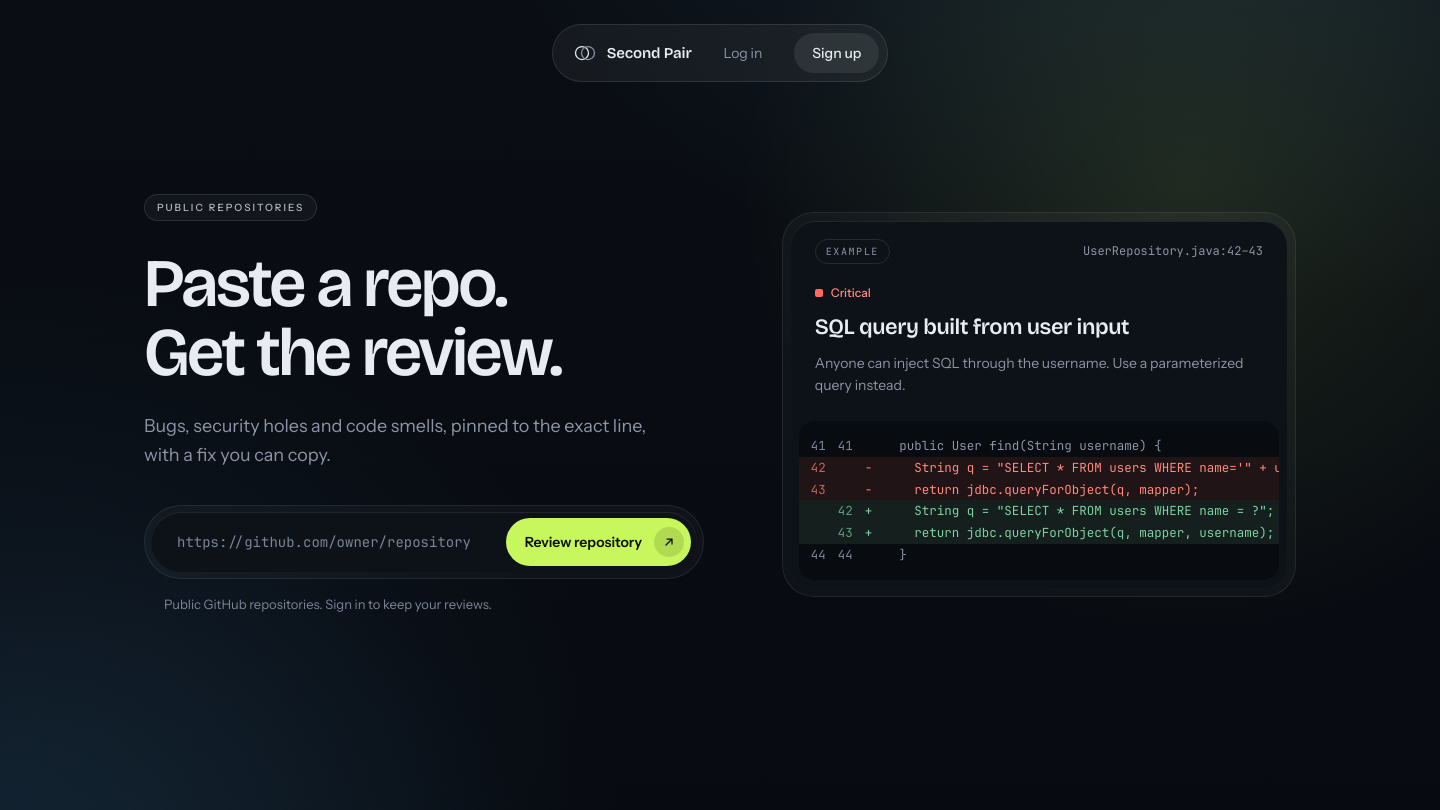
Test case: LandingPage › sends a visitor to log in and brings the URL back afterwards
Step 1. Type "https://github.com/octo/demo" into the field named "GitHub repository URL" → [327, 542], box [157,518,498,566]
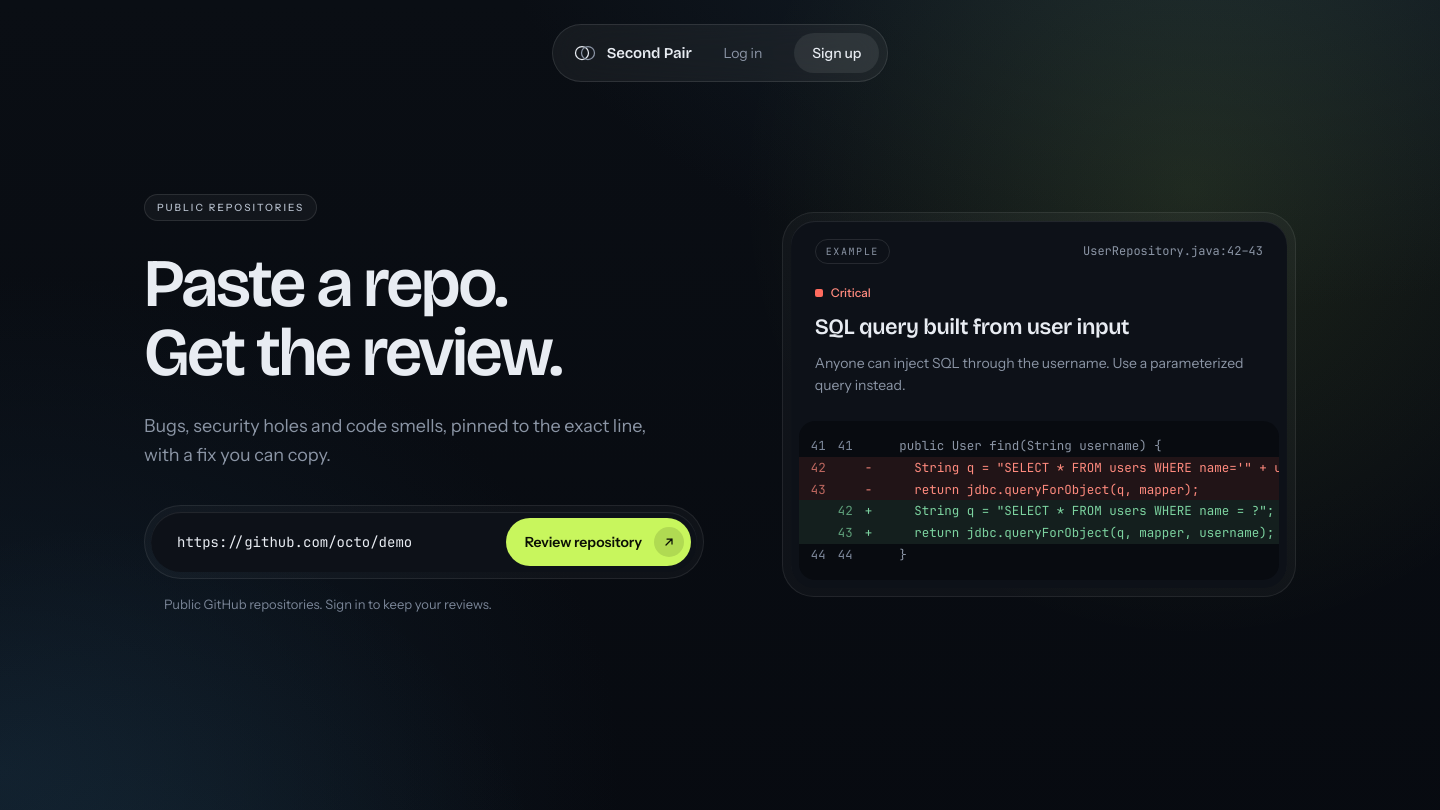
Step 2. Click the button "Review repository" → [598, 542], box [506,518,691,566]
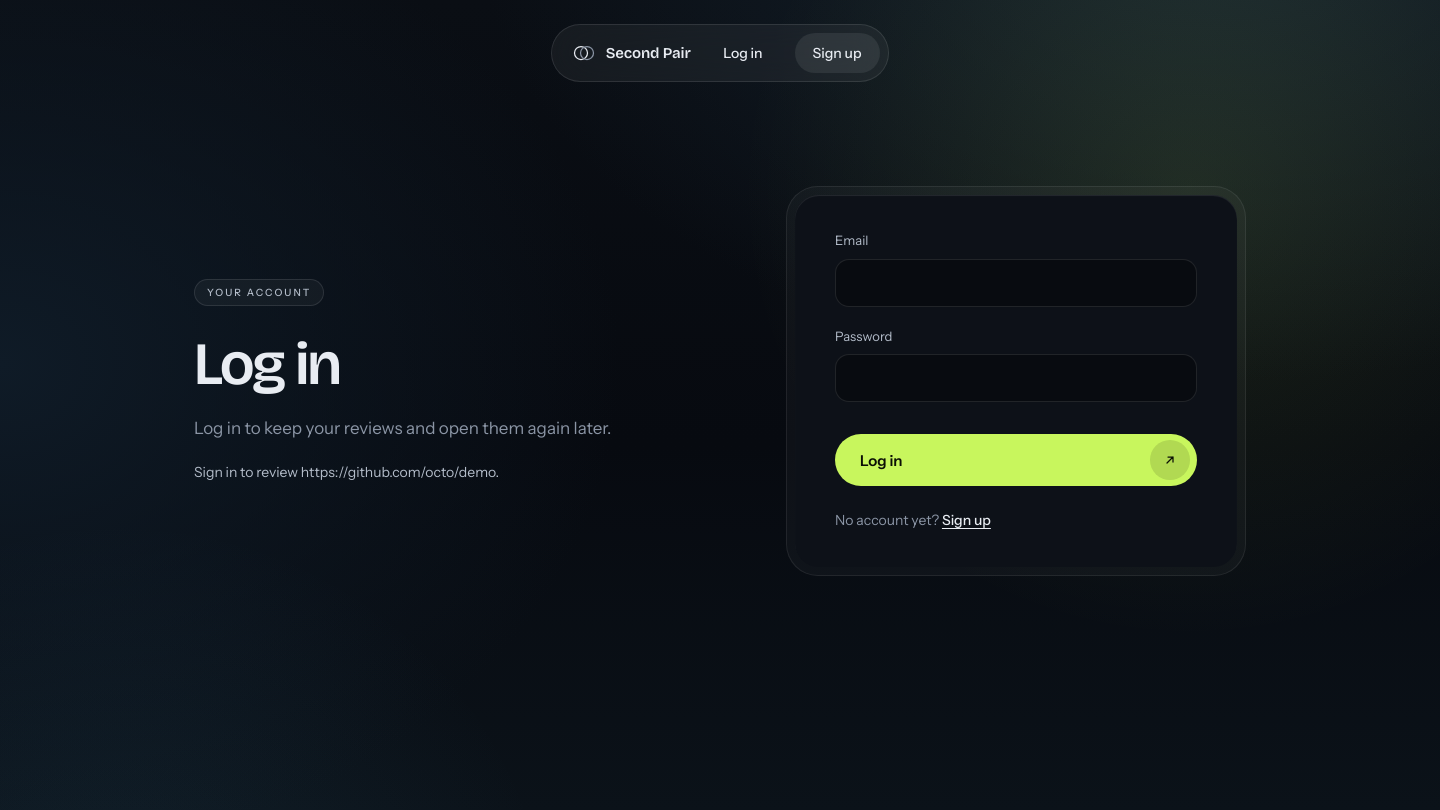
Result: the heading "Log in" is shown at [194,334,340,395]
Result: the text "Sign in to review https://github.com/octo/demo." is shown at [194,462,499,484]
Step 3. Type "ana@example.com" into the field labelled "Email" → [1016, 282], box [835,258,1197,306]
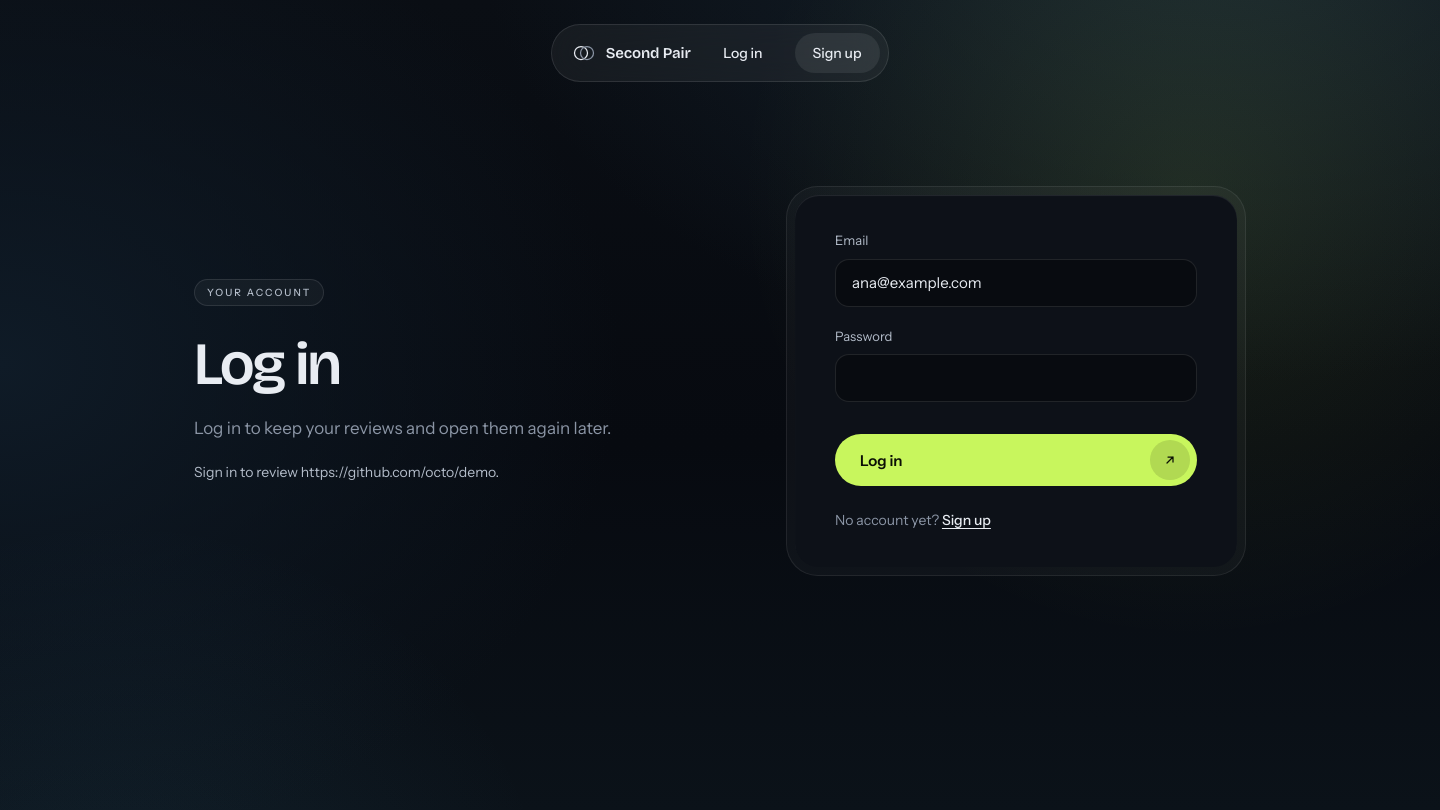
Step 4. Type "secret-password" into the password field labelled "Password" → [1016, 378], box [835,354,1197,402]
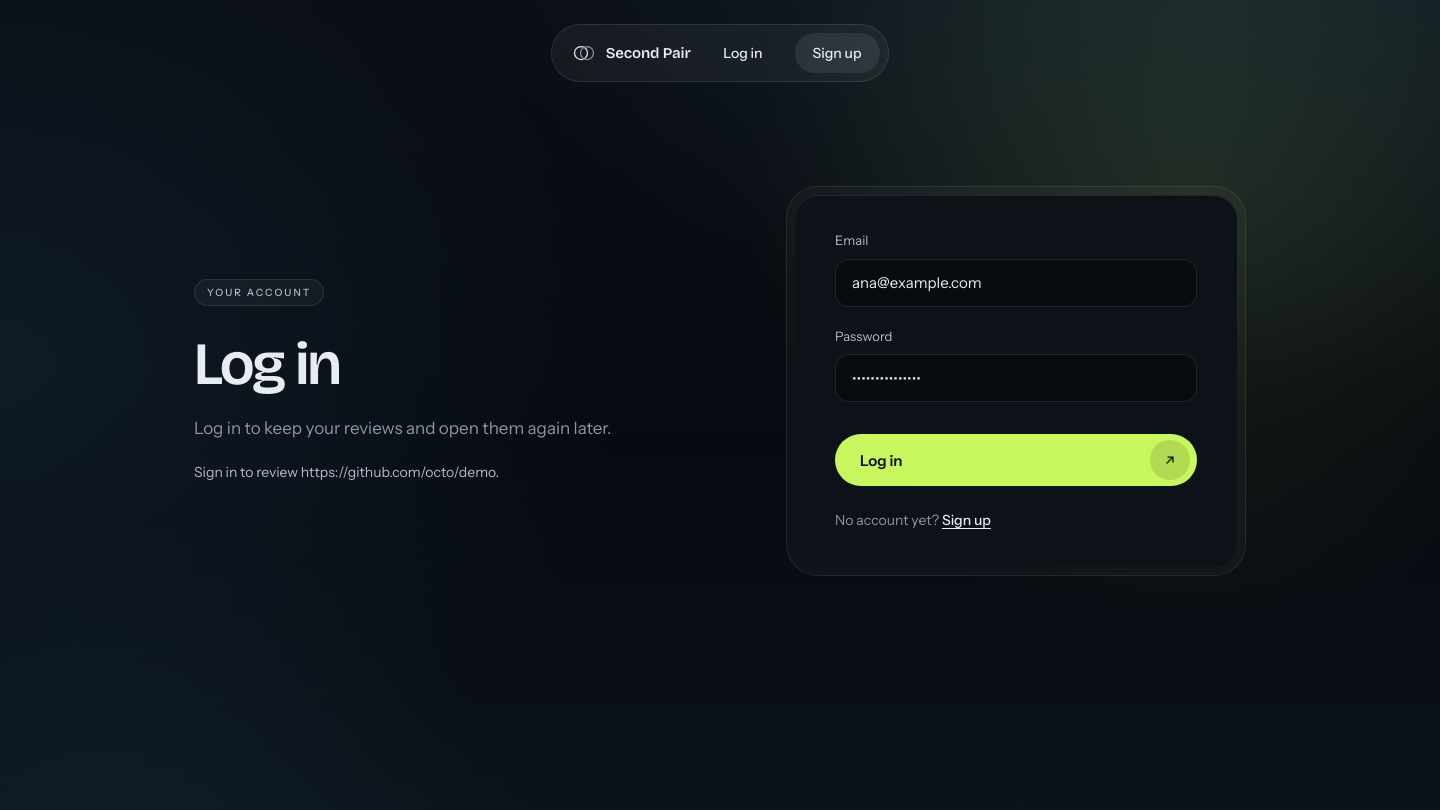
Step 5. Click the button "Log in" → [881, 460], box [835,434,1197,486]
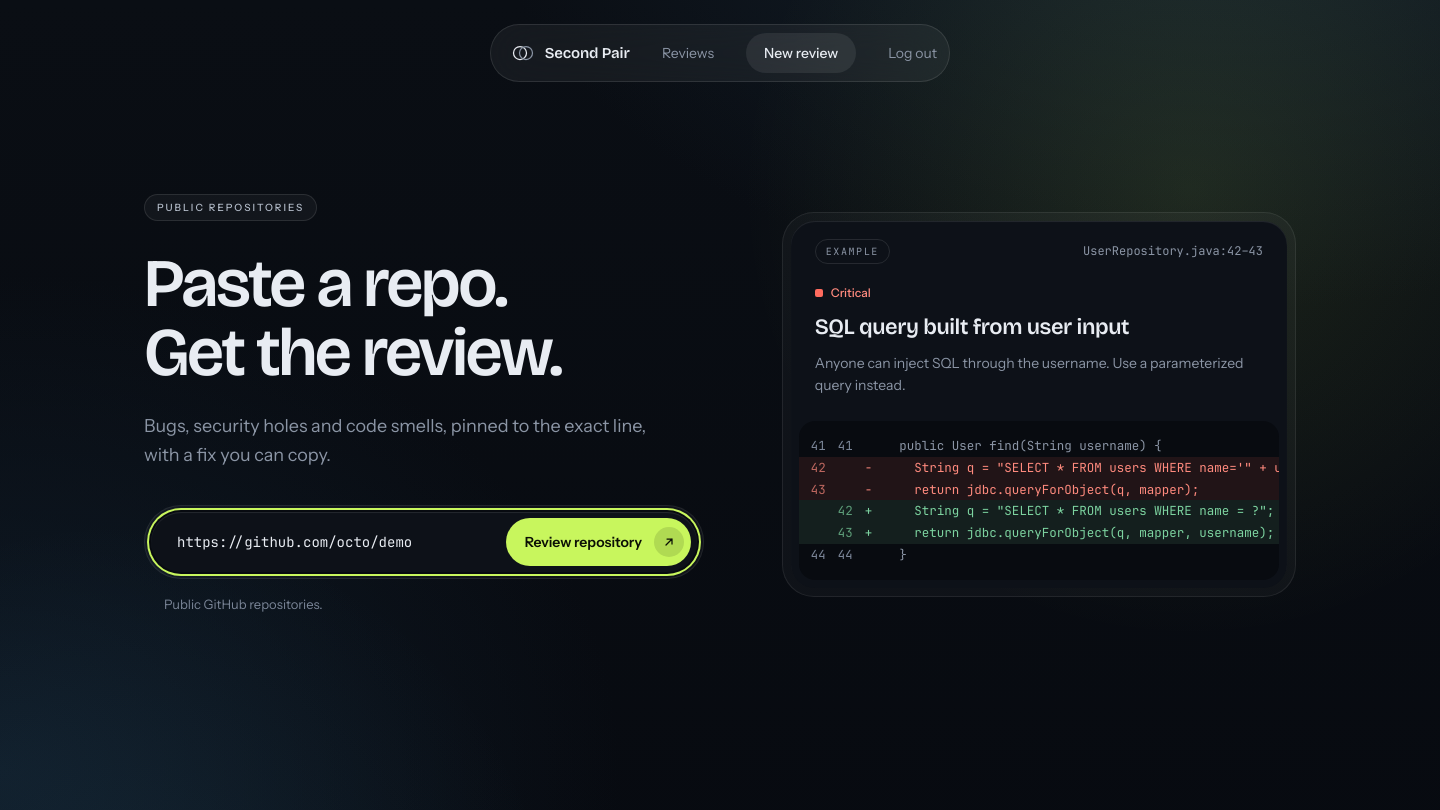
Result: the field showing "https://github.com/octo/demo" is shown at [157,518,498,566]
